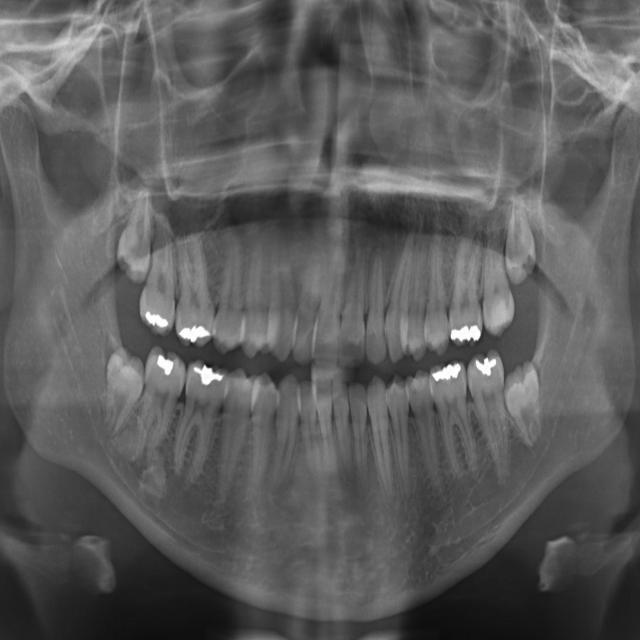3M ESPE Implant: (115, 183, 154, 284)
AGS Medikal Implant: (505, 467, 505, 468)
AMerOss Implant: (428, 358, 480, 485)
Amalgam filling: (137, 216, 180, 336)
Anthogyr Implant: (404, 367, 448, 508)
Bicon Implant: (385, 372, 417, 502)
BioHorizons Implant: (366, 372, 394, 507)
BioLife Implant: (349, 379, 372, 489)
Biomet 3i Implant: (330, 379, 356, 479)
Blue Sky Bio Implant: (314, 375, 341, 485)
Camlog Implant: (296, 377, 324, 482)
Caries: (366, 248, 388, 364)
Composite filling: (268, 371, 302, 498)
Cowellmedi Implant: (242, 370, 277, 511)
Crown: (206, 366, 257, 513)
DENTSPLY Implant: (174, 231, 215, 348)
Dentatus Implant: (163, 357, 230, 495)
Dentis Implant: (131, 344, 189, 470)
Dentium Implant: (98, 346, 146, 440)
Euroteknika Implant: (211, 221, 252, 357)
Filling: (241, 225, 278, 361)
Frontier Implant: (273, 224, 299, 363)
Hiossen Implant: (383, 219, 418, 365)
Implant: (314, 235, 348, 368)
Implant Direct: (290, 228, 328, 367)
Keystone Dental Implant: (338, 236, 367, 370)
MIS Implant: (409, 228, 431, 363)
Mandible: (428, 212, 451, 357)
Maxilla: (448, 229, 484, 349)
Megagen Implant: (473, 215, 518, 338)
Neodent Implant: (505, 190, 536, 286)
Neoss Implant: (531, 429, 536, 438)
